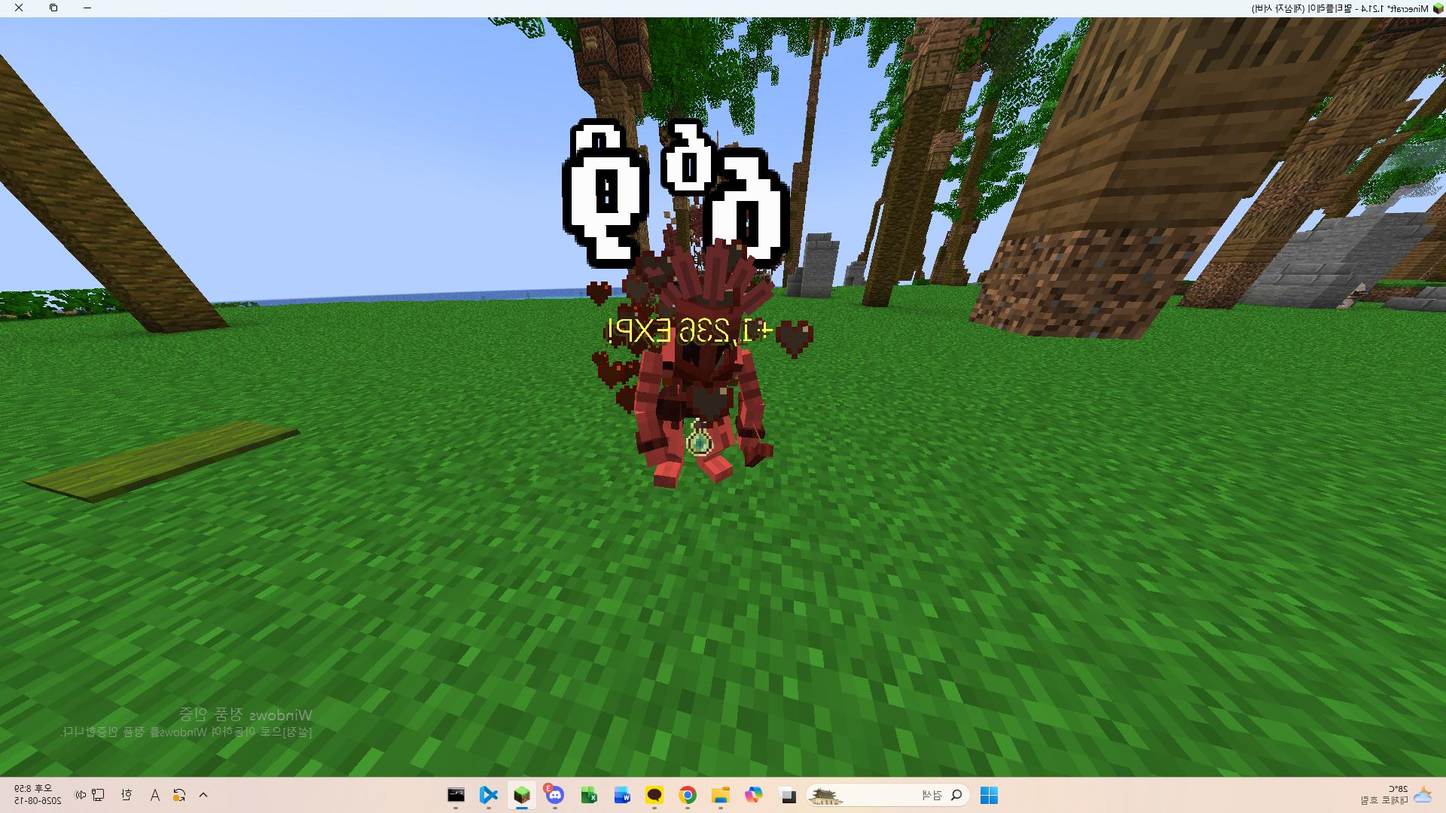bow_indian: (579, 224, 838, 527)
